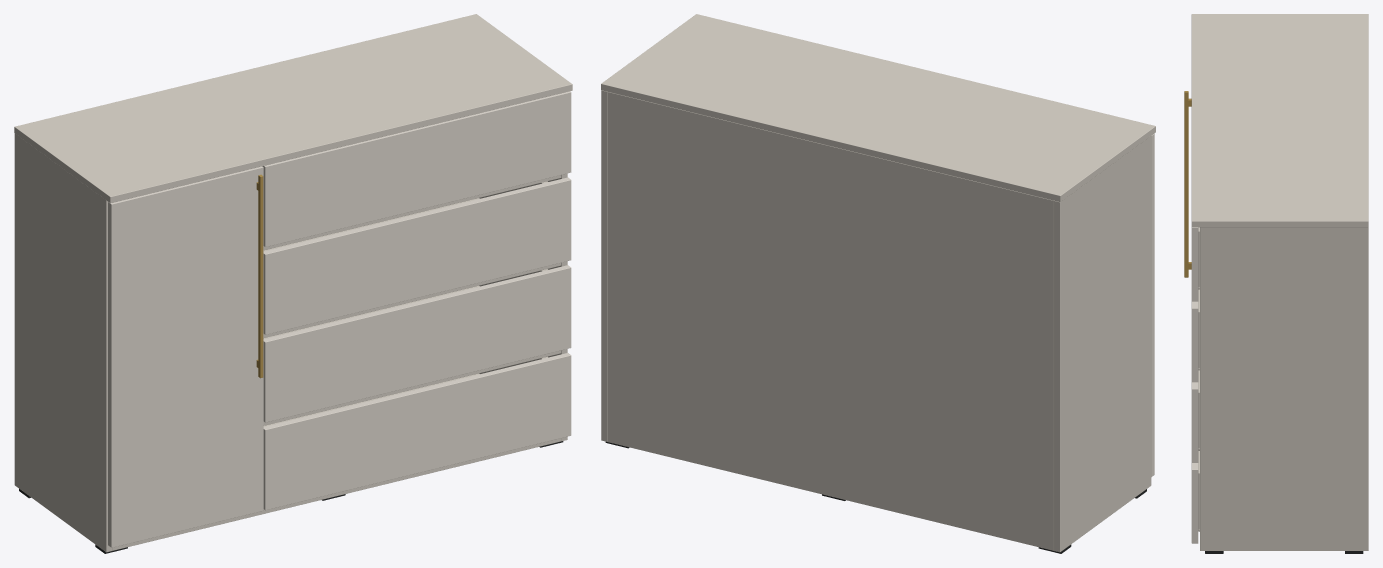
Rendered from dresser-11-nord-door-four-drawer.glb.
The picture shows the model from 3 angles, left to right: view 1: azimuth 30°, elevation 25°; view 2: azimuth 150°, elevation 25°; view 3: azimuth 270°, elevation 25°; orthographic projection. The views are drawn at different scales.
Parts seen in each view (by area): view 1: Door_Left_Front_Core_Tile_ccc, Panel_Top_Tile_ccc, Panel_Side_Left_Tile_ccc, Drawer_02_Front_Core_Tile_ccc, Drawer_01_Front_Core_Tile_ccc, Drawer_03_Front_Core_Tile_ccc, Drawer_04_Front_Core_Tile_ccc, Panel_Top_Tile_ccp, Panel_Bottom_Tile_ccp, Door_Left_Front_Core_Tile_mcc, Drawer_02_Front_Core_Tile_cpc, Drawer_01_Front_Core_Tile_cpc (+8 smaller); view 2: Panel_Back_Tile_ccc, Panel_Top_Tile_ccc, Panel_Side_Left_Tile_ccc, Panel_Top_Tile_ccm, Panel_Side_Right_Tile_ccm, Panel_Side_Left_Tile_ccm, Door_Left_Front_Core_Tile_mcc, Panel_Top_Tile_mcc; view 3: Panel_Side_Right_Tile_ccc, Panel_Top_Tile_ccc, Panel_Top_Tile_pcc, Handle_Door_Left_Bar, Drawer_03_Front_Core_Tile_pcc, Drawer_02_Front_Core_Tile_pcc, Drawer_04_Front_Core_Tile_pcc, Drawer_01_Front_Core_Tile_pcc, Panel_Side_Right_Tile_ccp, Panel_Side_Right_Tile_ccm.
Part boxes in pixels (<box>): Door_Left_Front_Core_Tile_ccc: <box>111,168,263,547</box>; Panel_Top_Tile_ccc: <box>15,14,571,196</box>; Panel_Side_Left_Tile_ccc: <box>14,133,105,551</box>; Drawer_02_Front_Core_Tile_ccc: <box>265,268,571,422</box>; Drawer_01_Front_Core_Tile_ccc: <box>265,355,571,509</box>; Drawer_03_Front_Core_Tile_ccc: <box>265,180,571,334</box>; Drawer_04_Front_Core_Tile_ccc: <box>265,92,571,246</box>; Panel_Top_Tile_ccp: <box>110,84,572,202</box>; Panel_Bottom_Tile_ccp: <box>112,438,561,550</box>; Door_Left_Front_Core_Tile_mcc: <box>108,202,111,547</box>; Drawer_02_Front_Core_Tile_cpc: <box>263,265,570,342</box>; Drawer_01_Front_Core_Tile_cpc: <box>263,353,570,429</box>; Panel_Back_Tile_ccc: <box>607,92,1053,550</box>; Panel_Top_Tile_ccc: <box>601,14,1154,195</box>; Panel_Side_Left_Tile_ccc: <box>1060,136,1150,551</box>; Panel_Top_Tile_ccm: <box>601,84,1060,201</box>; Panel_Side_Right_Tile_ccm: <box>601,90,607,441</box>; Panel_Side_Left_Tile_ccm: <box>1054,201,1060,551</box>; Door_Left_Front_Core_Tile_mcc: <box>1151,134,1154,476</box>; Panel_Top_Tile_mcc: <box>1060,126,1155,201</box>; Panel_Side_Right_Tile_ccc: <box>1200,227,1368,550</box>; Panel_Top_Tile_ccc: <box>1192,14,1368,221</box>; Panel_Top_Tile_pcc: <box>1192,221,1368,227</box>; Handle_Door_Left_Bar: <box>1184,91,1188,277</box>; Drawer_03_Front_Core_Tile_pcc: <box>1191,308,1198,382</box>; Drawer_02_Front_Core_Tile_pcc: <box>1191,389,1198,462</box>; Drawer_04_Front_Core_Tile_pcc: <box>1191,228,1198,301</box>; Drawer_01_Front_Core_Tile_pcc: <box>1191,470,1198,543</box>; Panel_Side_Right_Tile_ccp: <box>1200,227,1200,550</box>; Panel_Side_Right_Tile_ccm: <box>1368,227,1368,550</box>.
Bounding box in the file's own units: 1.2 × 0.9 × 0.45.
Materials: 255 (252 with a texture image).
